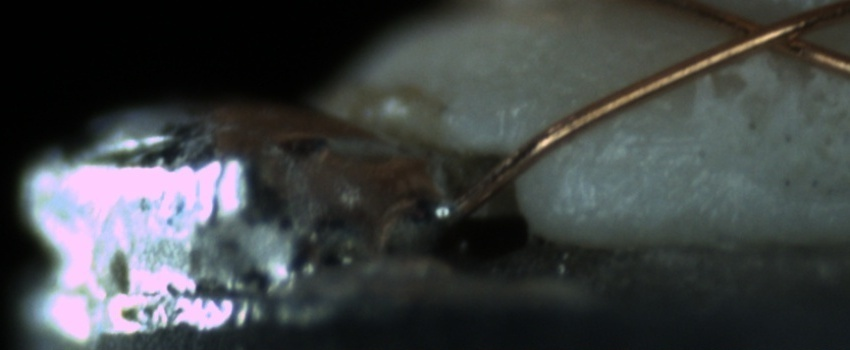CL: (702, 1, 836, 67)
DL: (575, 114, 707, 173)
